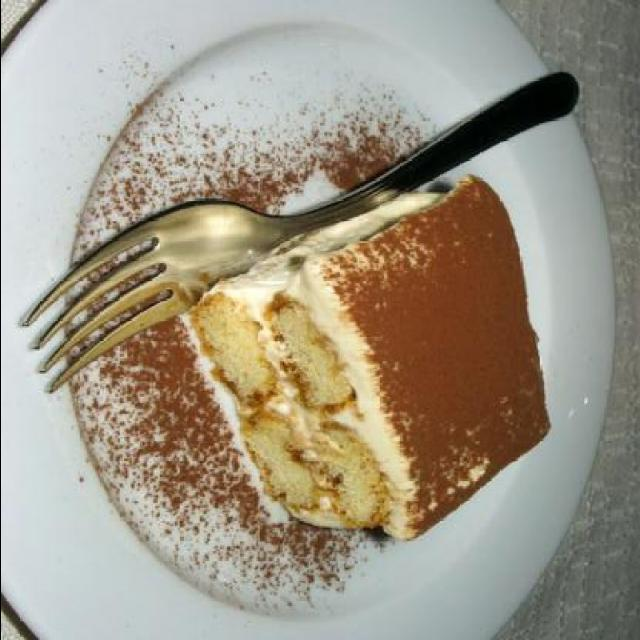Tiramisu: (215, 185, 538, 543)
